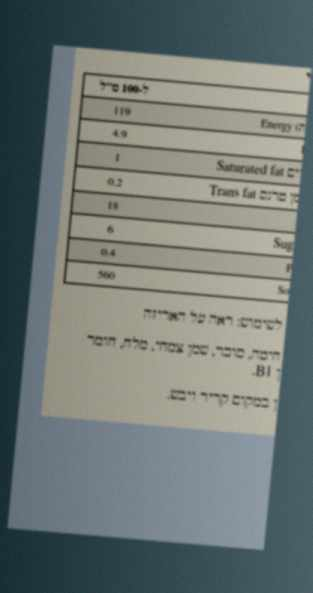carbs: (105, 198, 120, 213)
energy: (111, 103, 132, 119)
fat: (110, 126, 129, 141)
protein: (99, 245, 117, 260)
